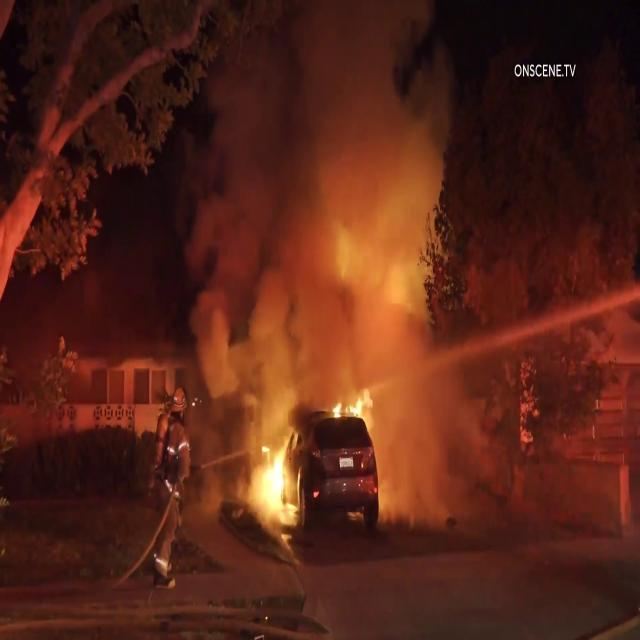fire: (246, 448, 280, 519), (318, 387, 366, 426)
smoke: (254, 0, 411, 227), (186, 240, 424, 369), (380, 352, 472, 522)
